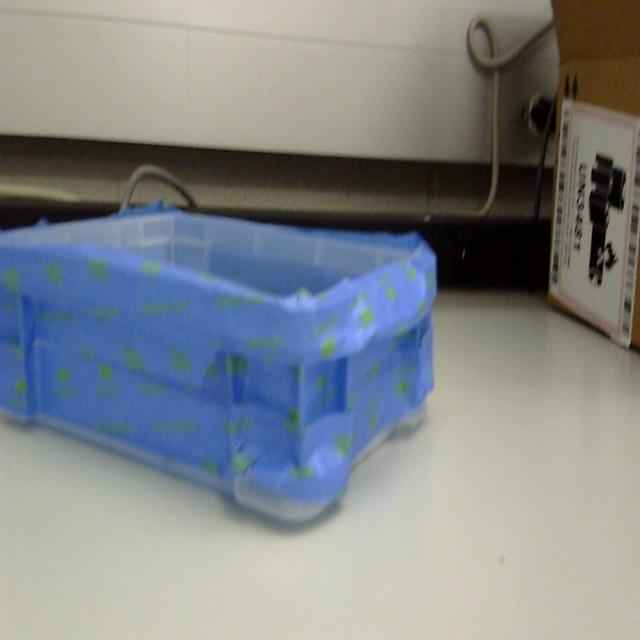bucket: (0, 205, 438, 531)
